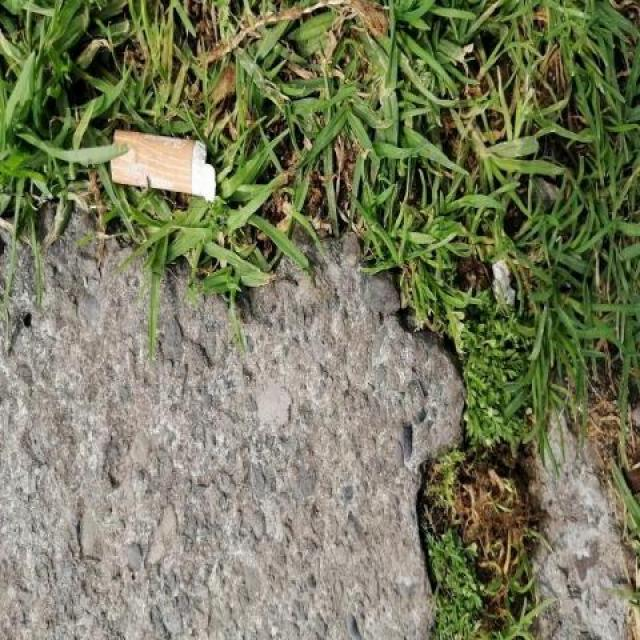non-organic waste: (109, 126, 218, 207)
